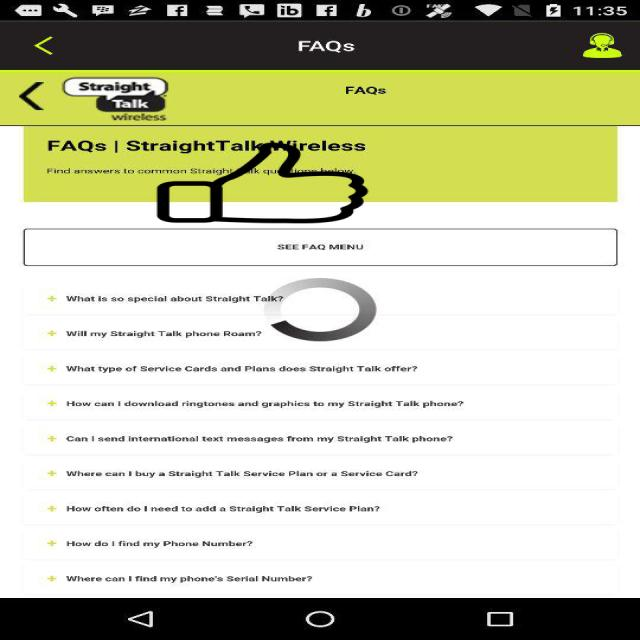privacy zuckering: (154, 143, 371, 223)
